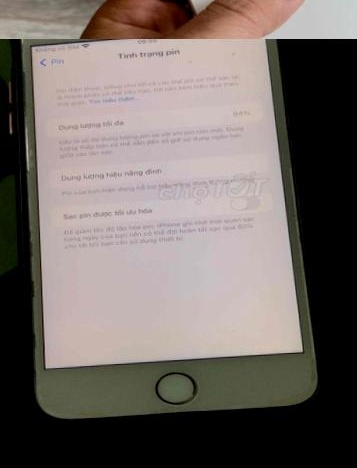scratch: (20, 326, 43, 392), (299, 346, 319, 396), (24, 223, 36, 258), (24, 276, 39, 299)
